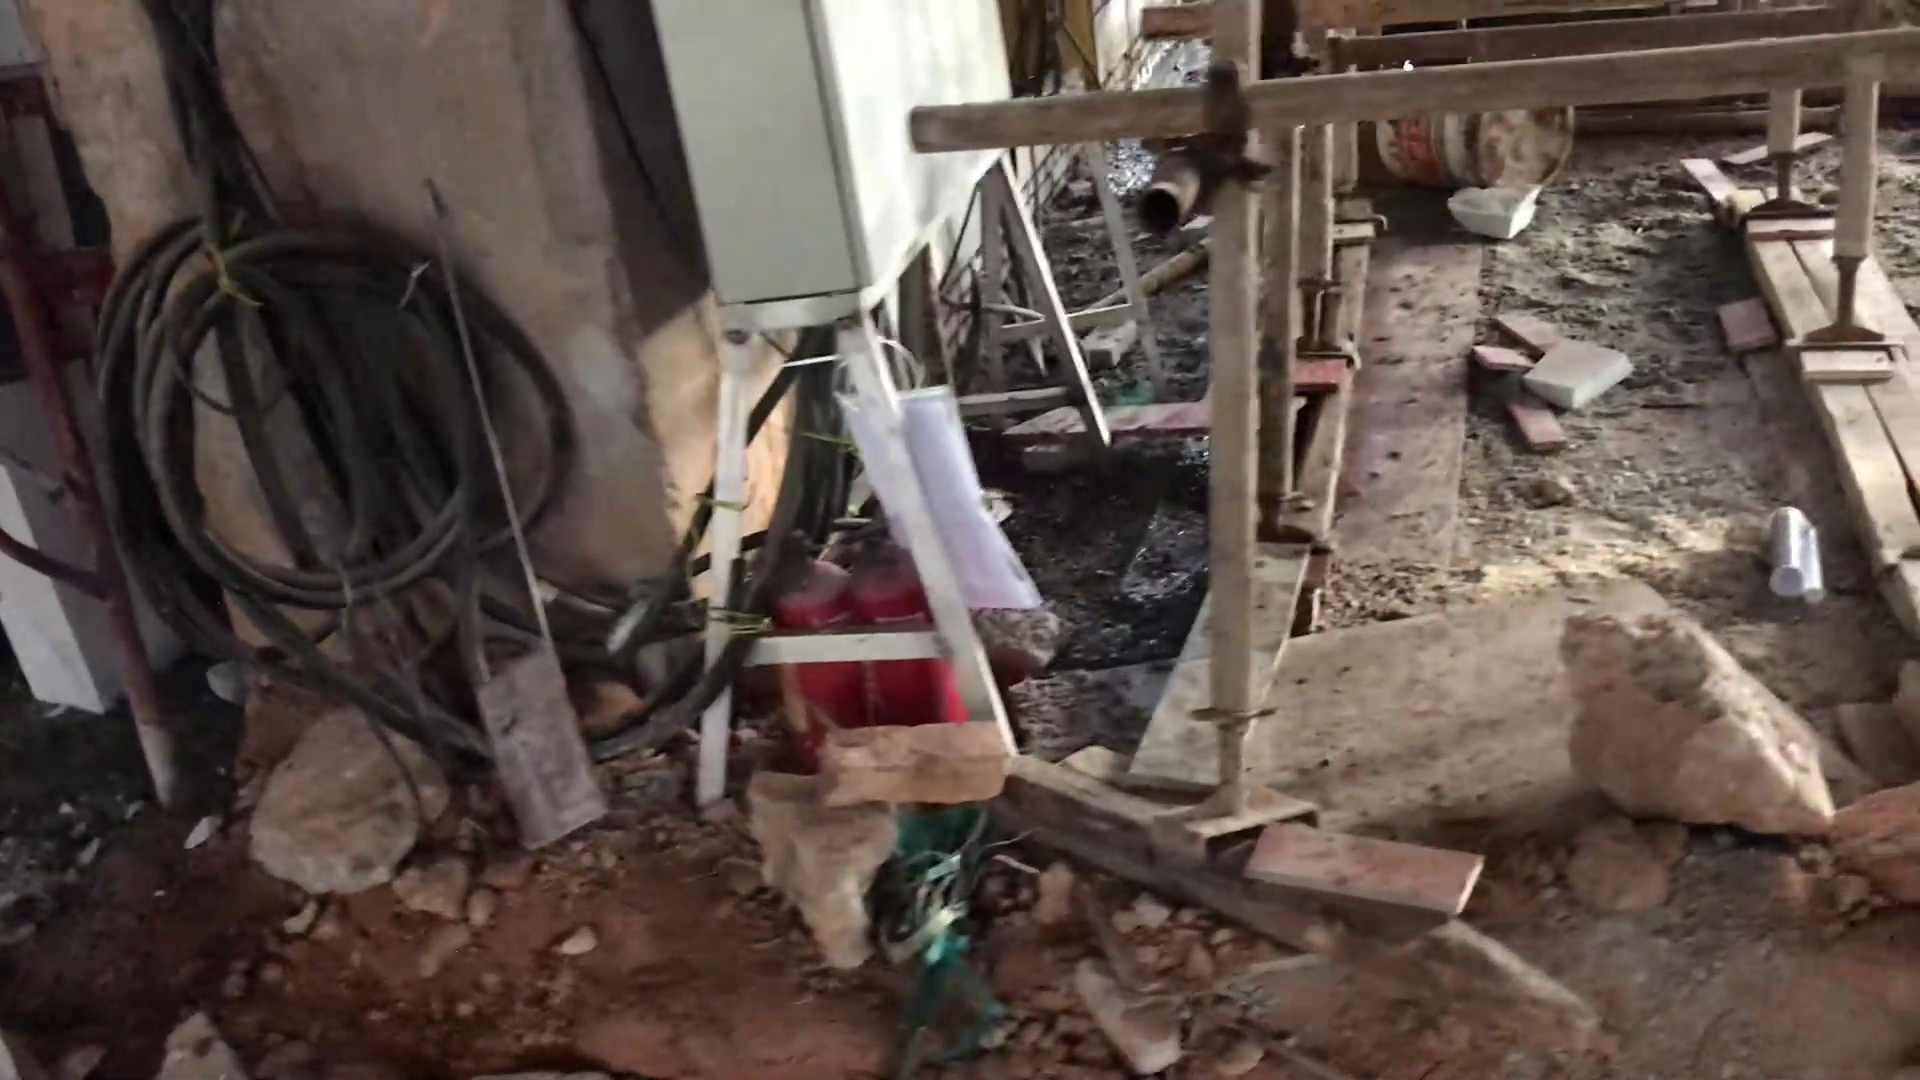ebox: (640, 1, 1106, 807)
